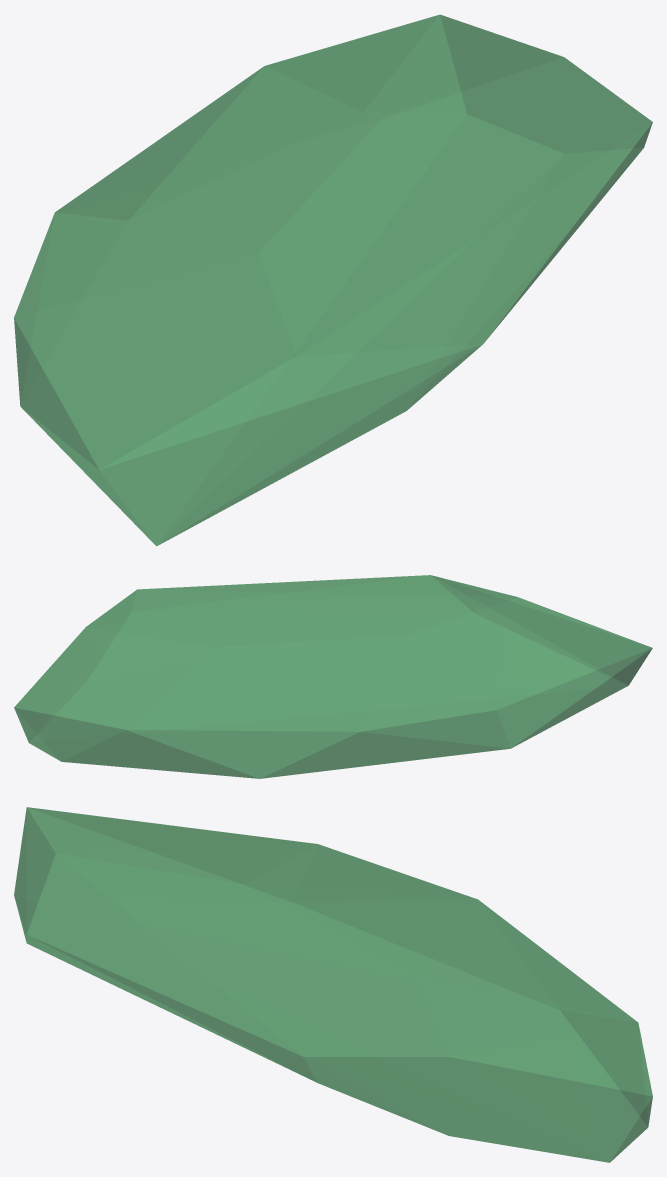
The picture shows the model from 3 angles, top to bottom: view 1: azimuth 30°, elevation 25°; view 2: azimuth 150°, elevation 25°; view 3: azimuth 270°, elevation 25°; orthographic projection. The views are drawn at different scales.
Visible parts, largest first — view 1: Shape_IndexedFaceSet.008_Shape_IndexedFaceSet.16587; view 2: Shape_IndexedFaceSet.008_Shape_IndexedFaceSet.16587; view 3: Shape_IndexedFaceSet.008_Shape_IndexedFaceSet.16587.
Boxes of the visible parts, left/top/right/bottom form: Shape_IndexedFaceSet.008_Shape_IndexedFaceSet.16587: left=14, top=14, right=652, bottom=546; Shape_IndexedFaceSet.008_Shape_IndexedFaceSet.16587: left=14, top=575, right=652, bottom=778; Shape_IndexedFaceSet.008_Shape_IndexedFaceSet.16587: left=14, top=807, right=652, bottom=1162.
Size of the model in its own units: 0.1858 by 0.0322 by 0.1732.
